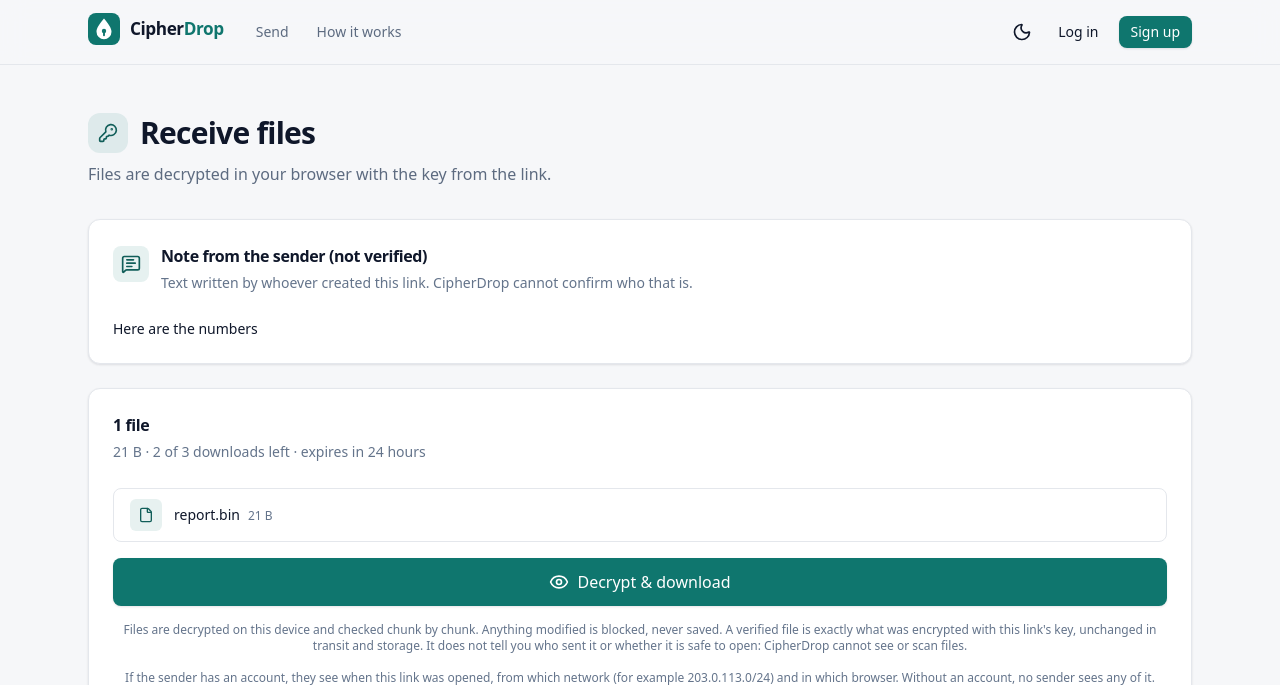
Test case: ReceivePage › ready: decrypted note, file list and downloads left; download verifies and saves
Expected: the text "Here are the numbers" is shown, [113,319,258,338]
Expected: the text "report.bin" is shown, [174,504,240,524]
Click the button "Decrypt & download" at (640, 582), box [113,558,1167,606]
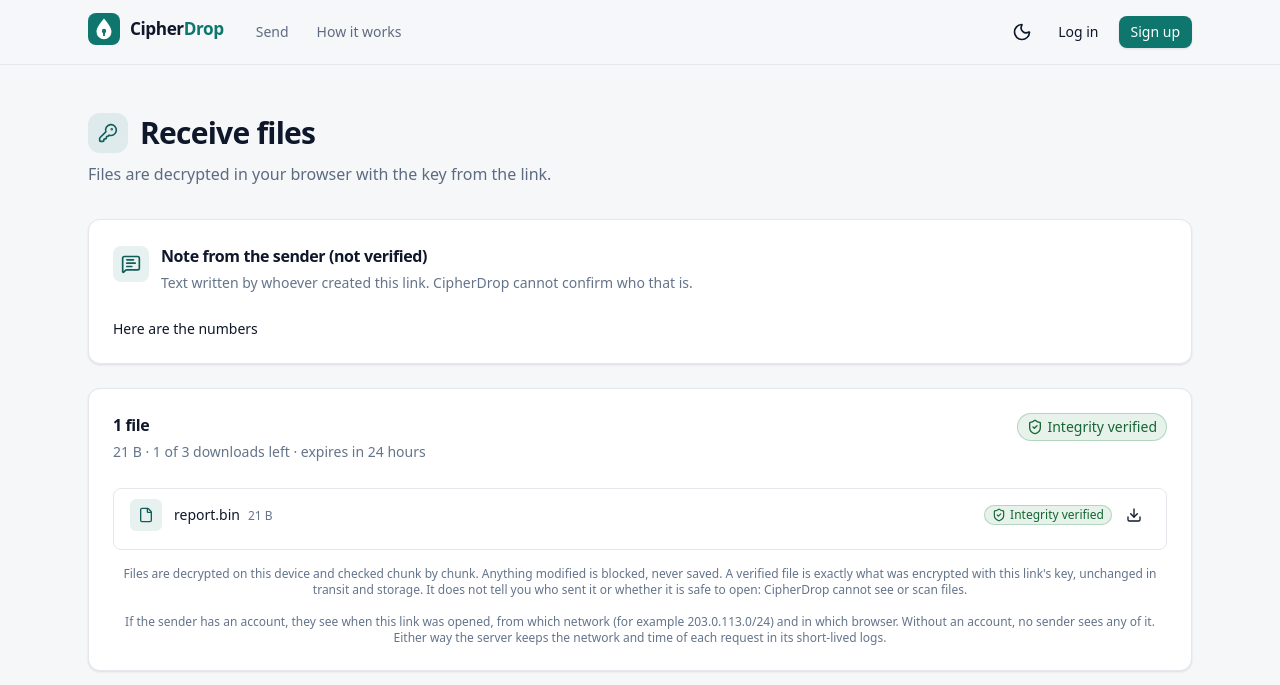
Now the text "Integrity verified" in the row of "report.bin" is shown, box [1010,506,1104,522]
Now the text "21 B · 1 of 3 downloads left · expires in 24 hours" is shown, box [113,442,426,461]
